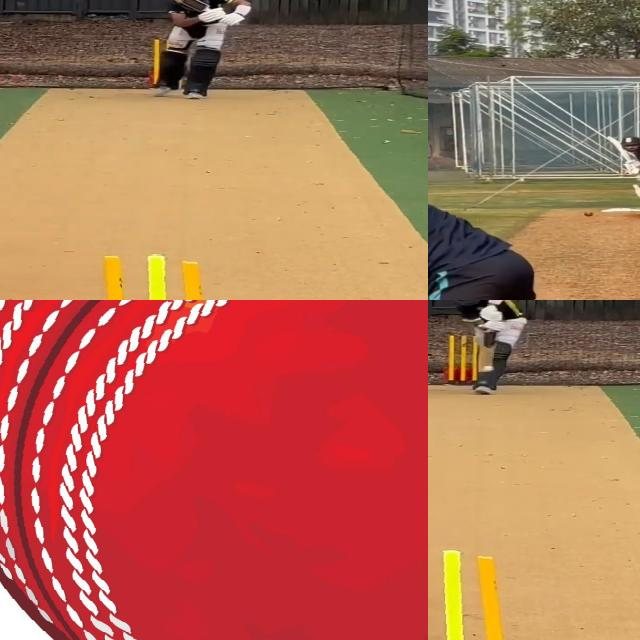Cricket ball: (0, 300, 428, 640), (482, 365, 495, 373), (584, 211, 594, 217)
Stumps: (428, 545, 506, 640), (83, 254, 220, 300), (448, 335, 479, 385)
